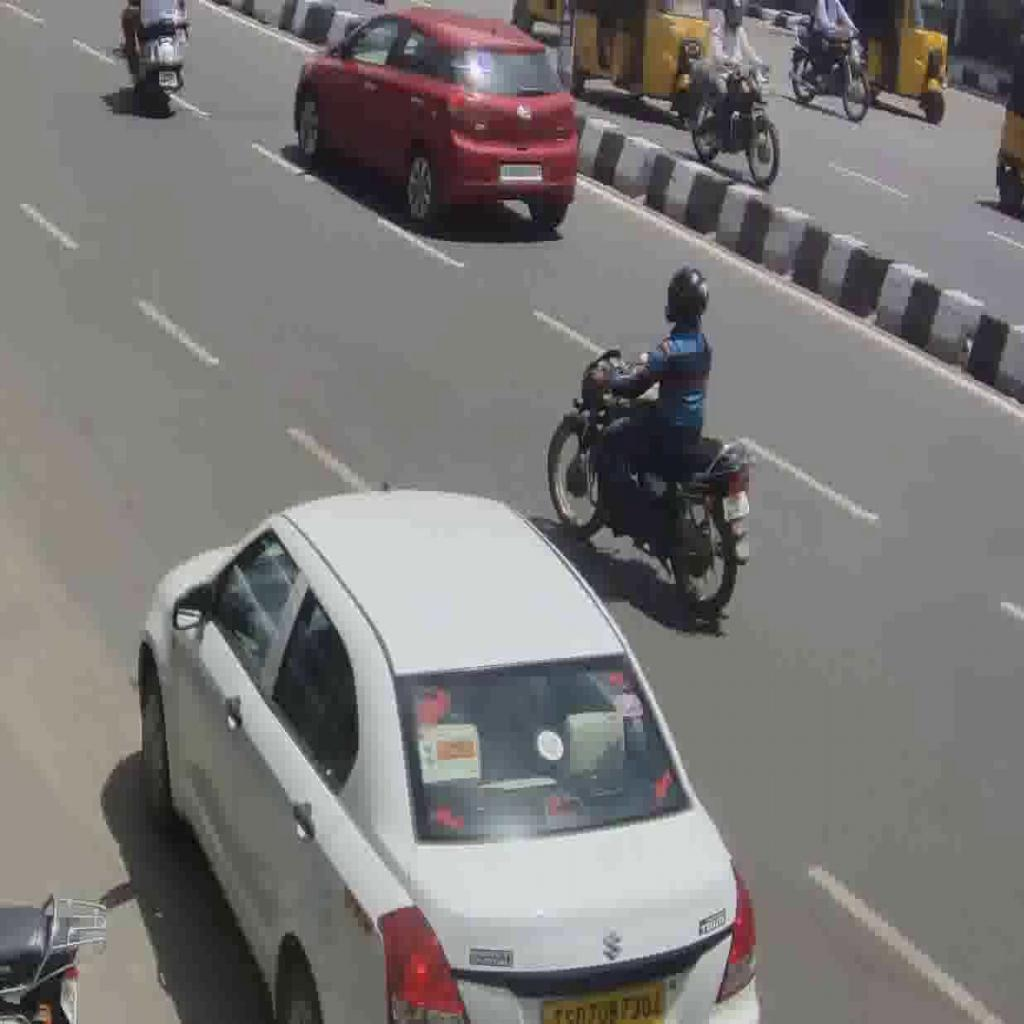bike: (545, 344, 759, 621)
helmet: (662, 262, 711, 327)
lisc: (722, 490, 750, 520)
noise: (683, 0, 782, 192), (786, 0, 871, 124)
rider: (581, 261, 715, 536)
